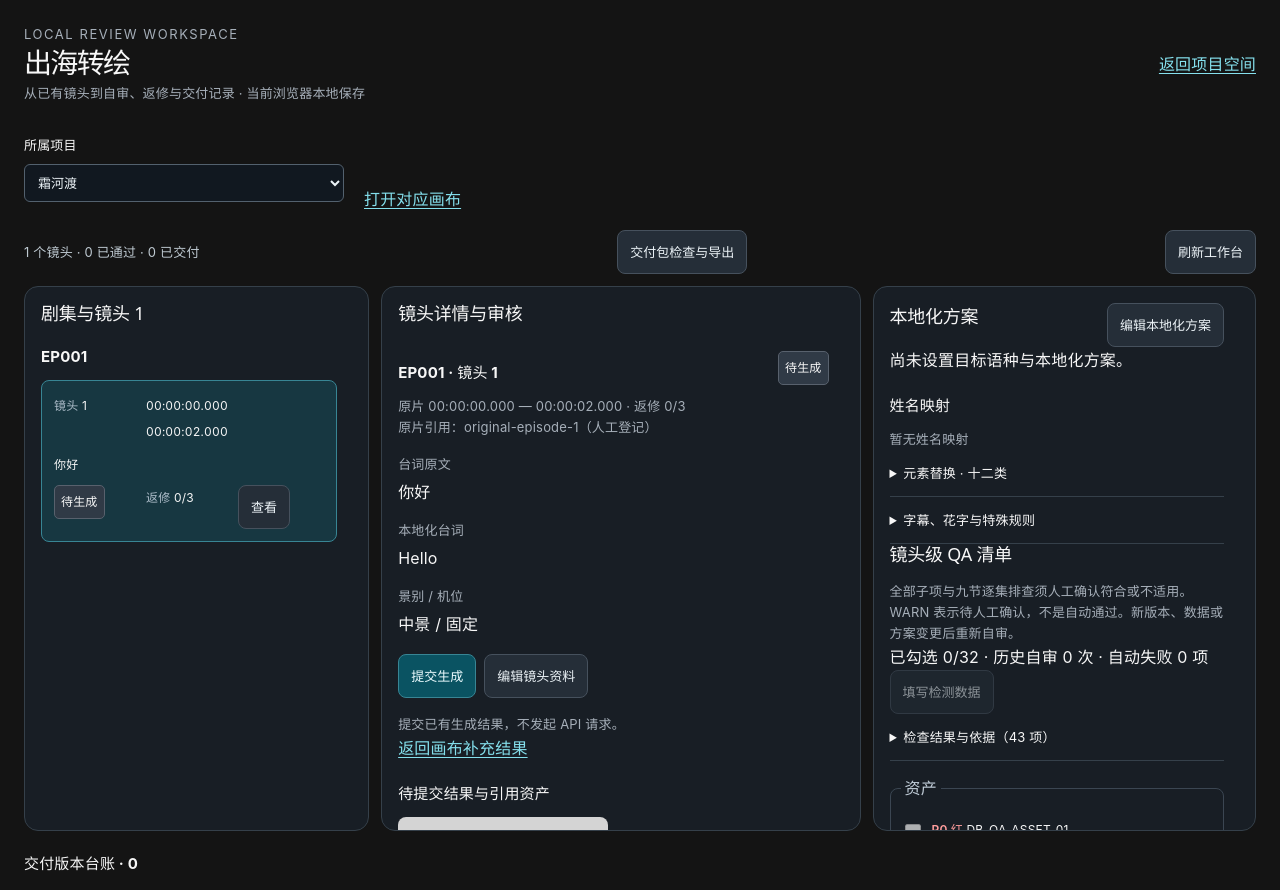
交付检查弹层Esc关闭后焦点回到入口，不因打开弹层禁用入口而丢失焦点
Step 1. Click the button "交付包检查与导出" → point(682, 252), box [617,230,747,274]
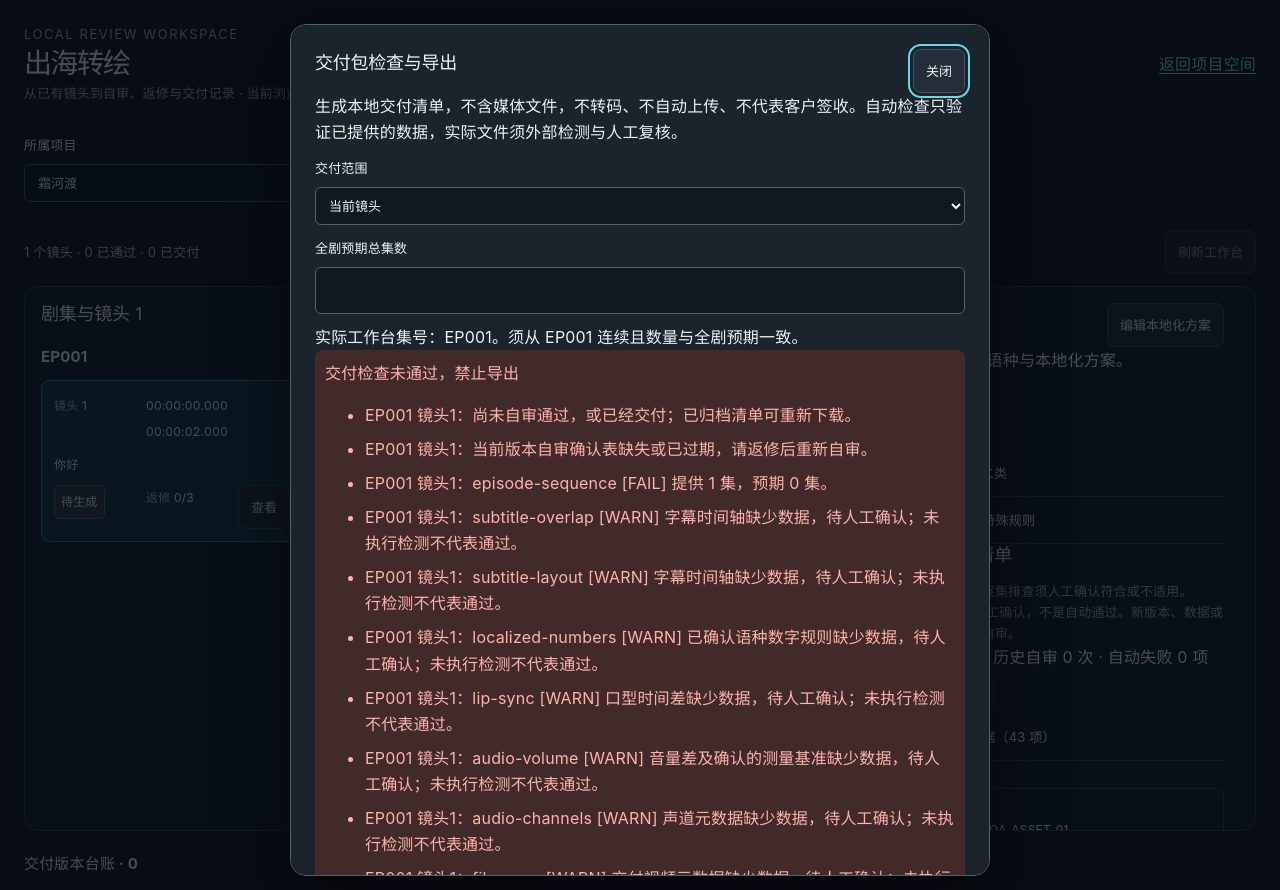
Expected: the dialog "交付包检查与导出" is shown, [290,24,990,876]
Step 2. Press Escape
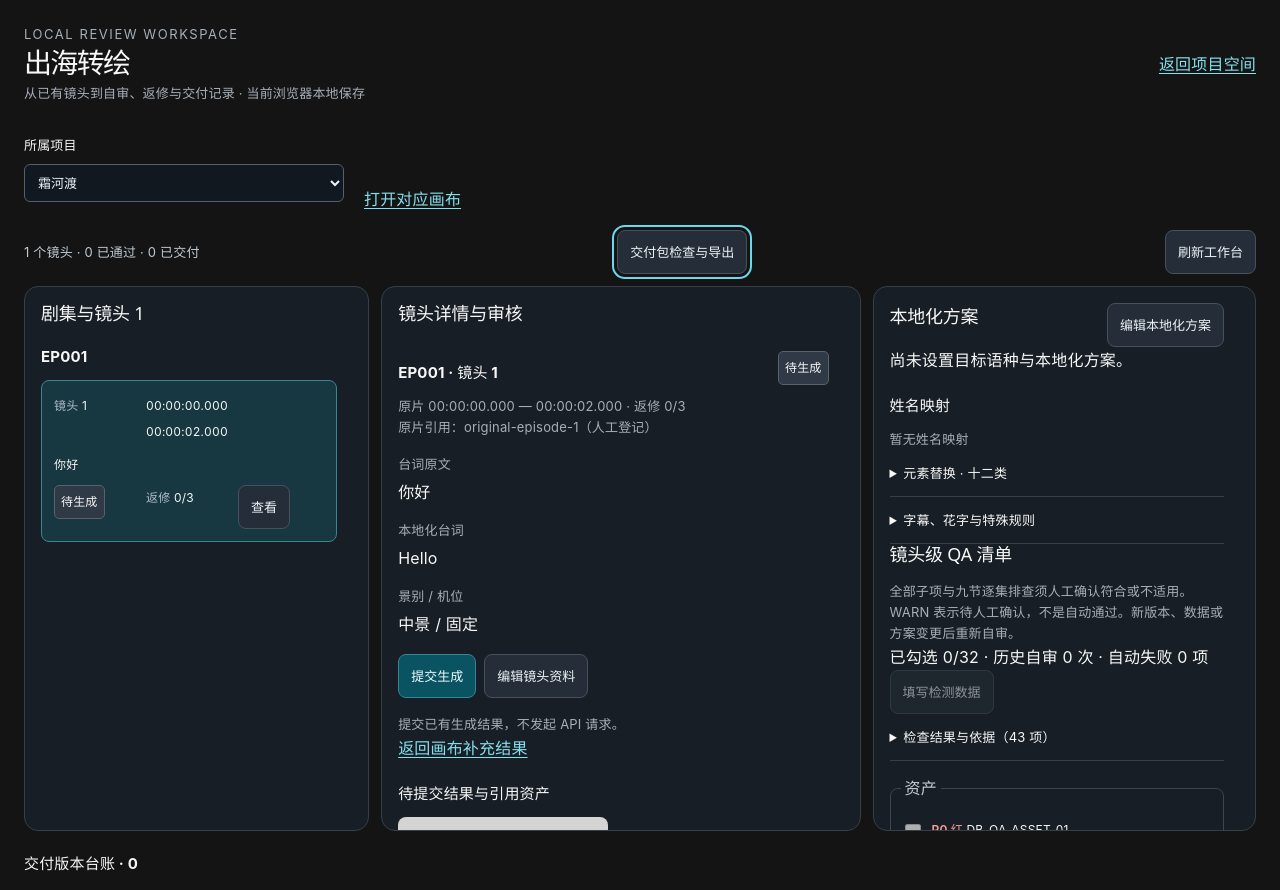
Expected: the dialog is gone
